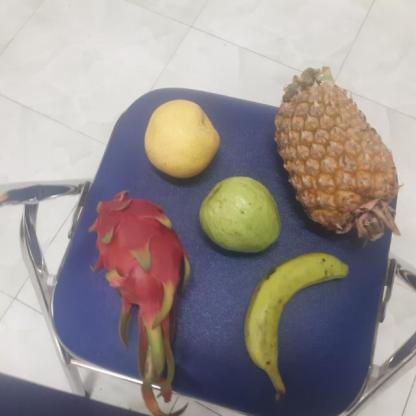banana: (239, 254, 345, 378)
guava: (195, 178, 280, 252)
pear: (140, 101, 222, 179)
pineapple: (276, 77, 391, 240)
pitaya: (88, 194, 190, 320)
